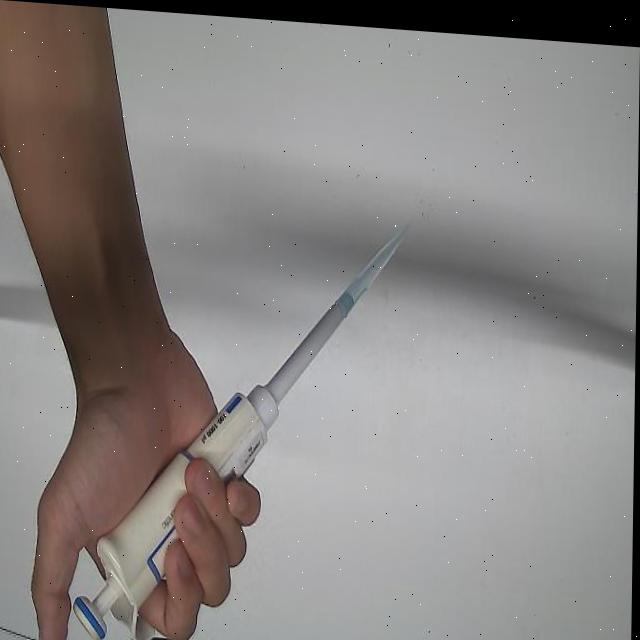Micropipette Tip 1000 uL: (334, 210, 411, 316)
Single Channel Pipettor: (74, 270, 355, 640)
